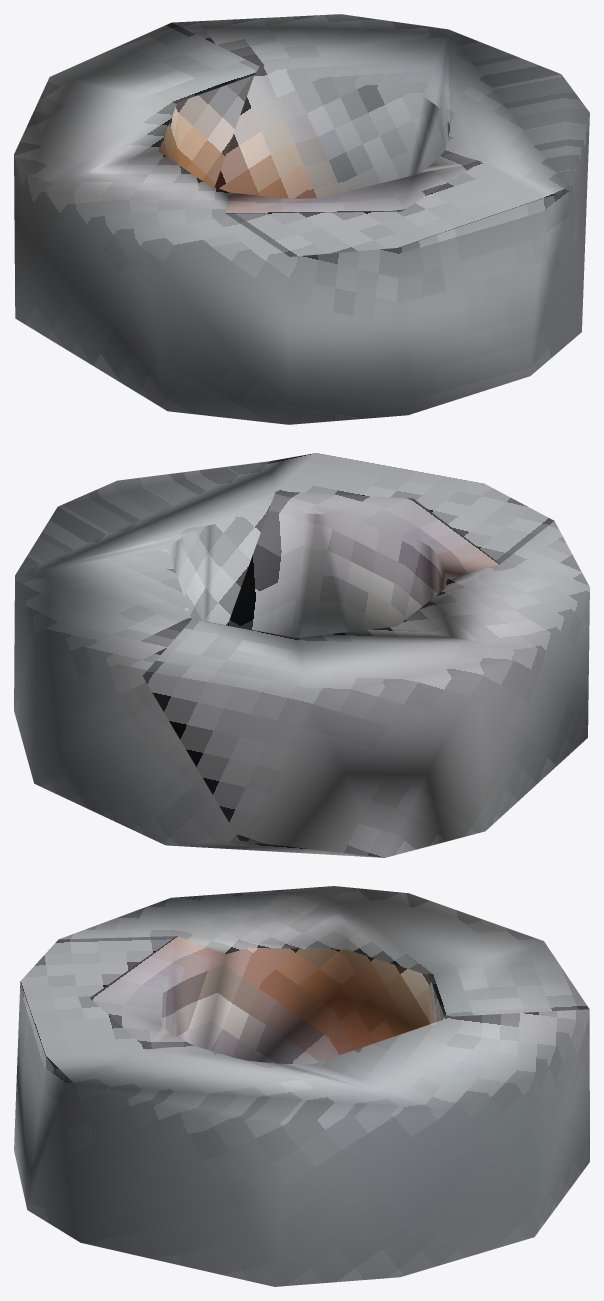
The model's file is Shurtape_Gaffers_Tape_Silver_2_x_60_yd-low.glb.
3 views of the same model, one above another, from view 1: azimuth 30°, elevation 25°; view 2: azimuth 150°, elevation 25°; view 3: azimuth 270°, elevation 25° (orthographic).
Parts seen in each view (by area): view 1: Shurtape_Gaffers_Tape_Silver_2_x_60_yd; view 2: Shurtape_Gaffers_Tape_Silver_2_x_60_yd; view 3: Shurtape_Gaffers_Tape_Silver_2_x_60_yd.
Part boxes in pixels (x1,y1,x2,y2): Shurtape_Gaffers_Tape_Silver_2_x_60_yd: (14, 14, 589, 424); Shurtape_Gaffers_Tape_Silver_2_x_60_yd: (14, 453, 589, 857); Shurtape_Gaffers_Tape_Silver_2_x_60_yd: (14, 886, 589, 1286).
Bounding box in the file's own units: 0.1528 × 0.0501 × 0.1513.
1 material, 1 textured.
